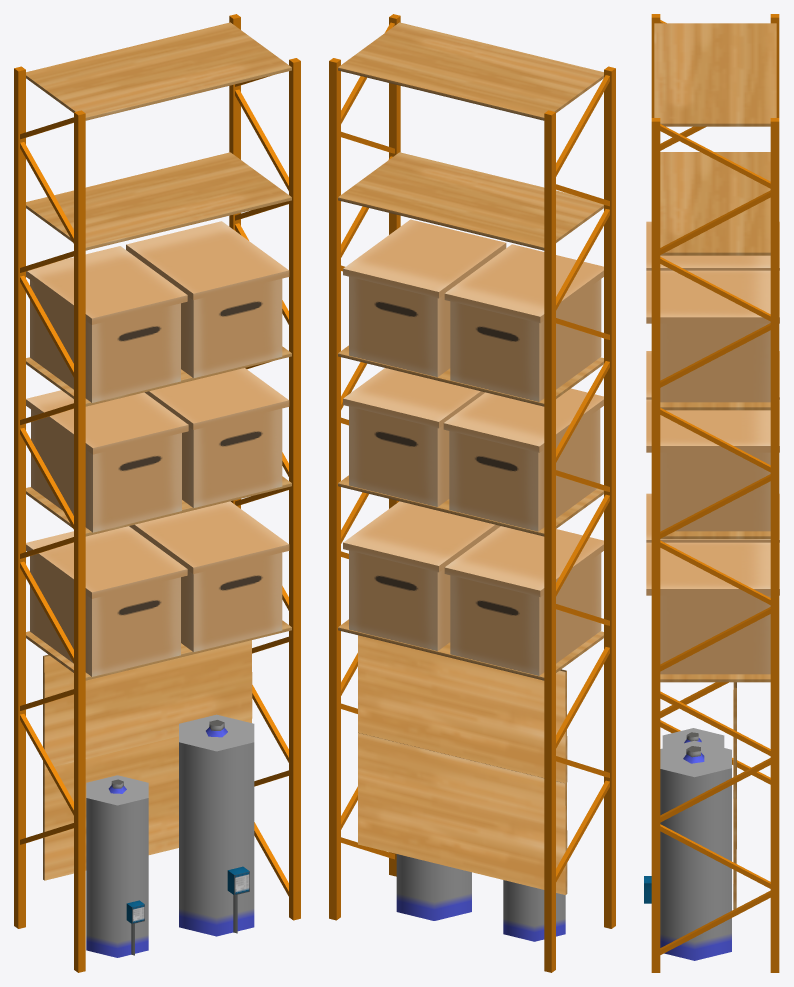
Rendered from Water_Heater_Rack.fbx.
3 renders of one model, left to right at view 1: azimuth 30°, elevation 25°; view 2: azimuth 150°, elevation 25°; view 3: azimuth 270°, elevation 25°, orthographic.
Parts seen in each view (by area): view 1: Water_heater_rack; view 2: Water_heater_rack; view 3: Water_heater_rack.
Boxes of the visible parts, x1=… form: Water_heater_rack: x1=14, y1=14, x2=300, y2=972; Water_heater_rack: x1=329, y1=14, x2=615, y2=972; Water_heater_rack: x1=644, y1=14, x2=779, y2=972.
Bounding box in the file's own units: 2 × 7.37 × 1.07.
